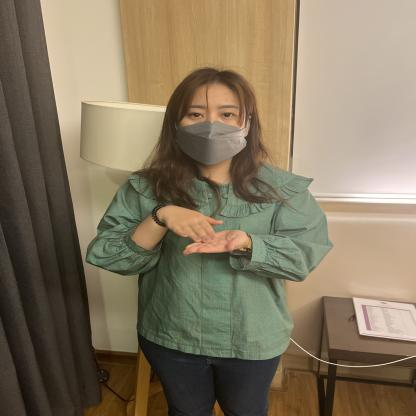Love: (77, 142, 416, 374)
